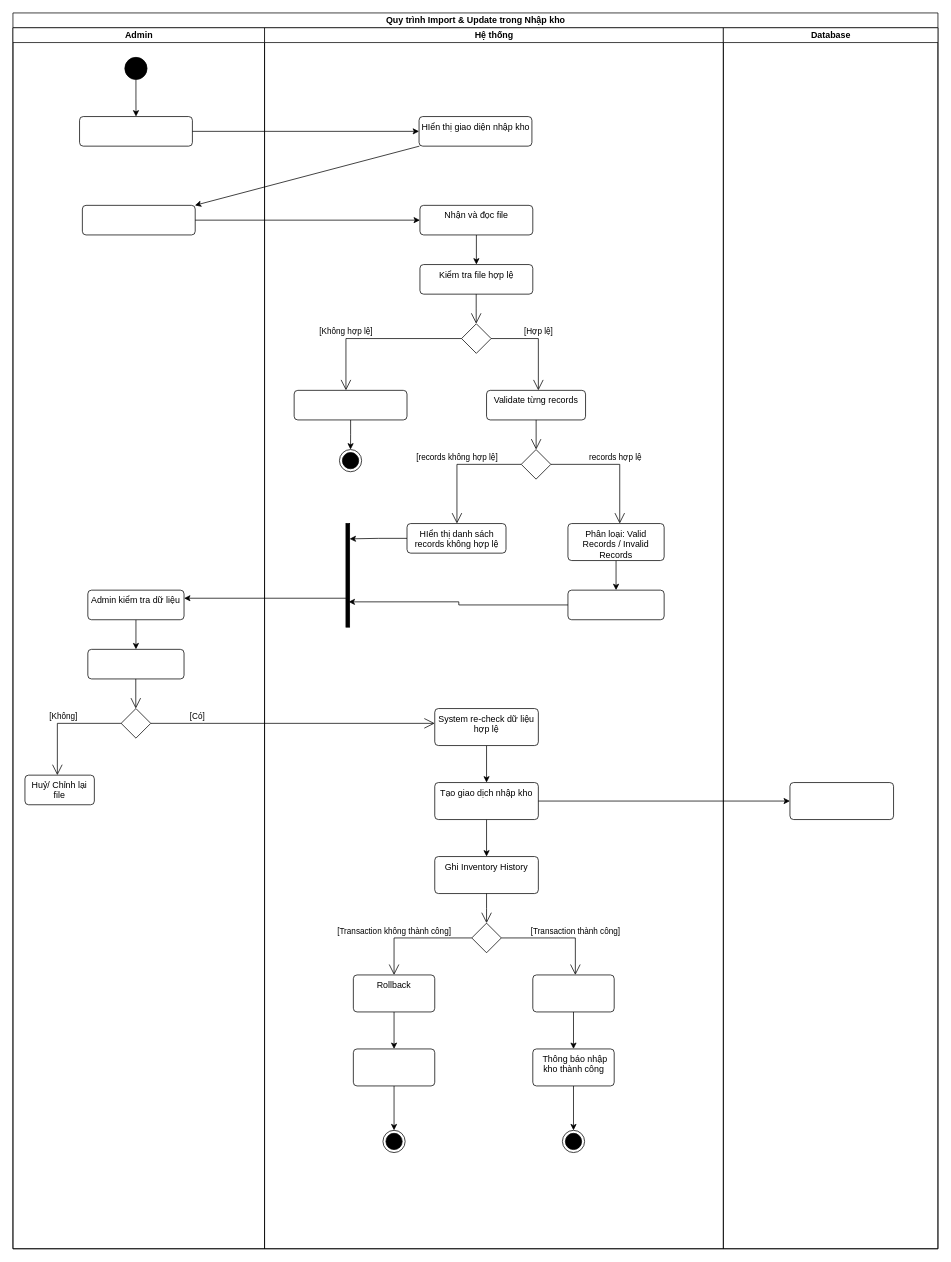
The diagram is 951 pixels wide and 1262 high, and some of its shapes have lost their labels. The shapes that lost their labels are listed below. From the top down, each one's box as (x1, y1, x2, y2) in pixels, then its label:
(79, 116, 192, 146): Admin mở chức năng nhập kho
(82, 205, 195, 235): Chọn file Excel/ CSV
(293, 390, 407, 420): Hiển thị thông báo lỗi file
(567, 589, 664, 620): System hiển thị Preview
(87, 649, 184, 679): Admin xác nhận
(789, 782, 894, 820): Cập nhật Inventory
(532, 974, 614, 1012): Commit transaction
(353, 1048, 435, 1086): Thông báo lỗi
